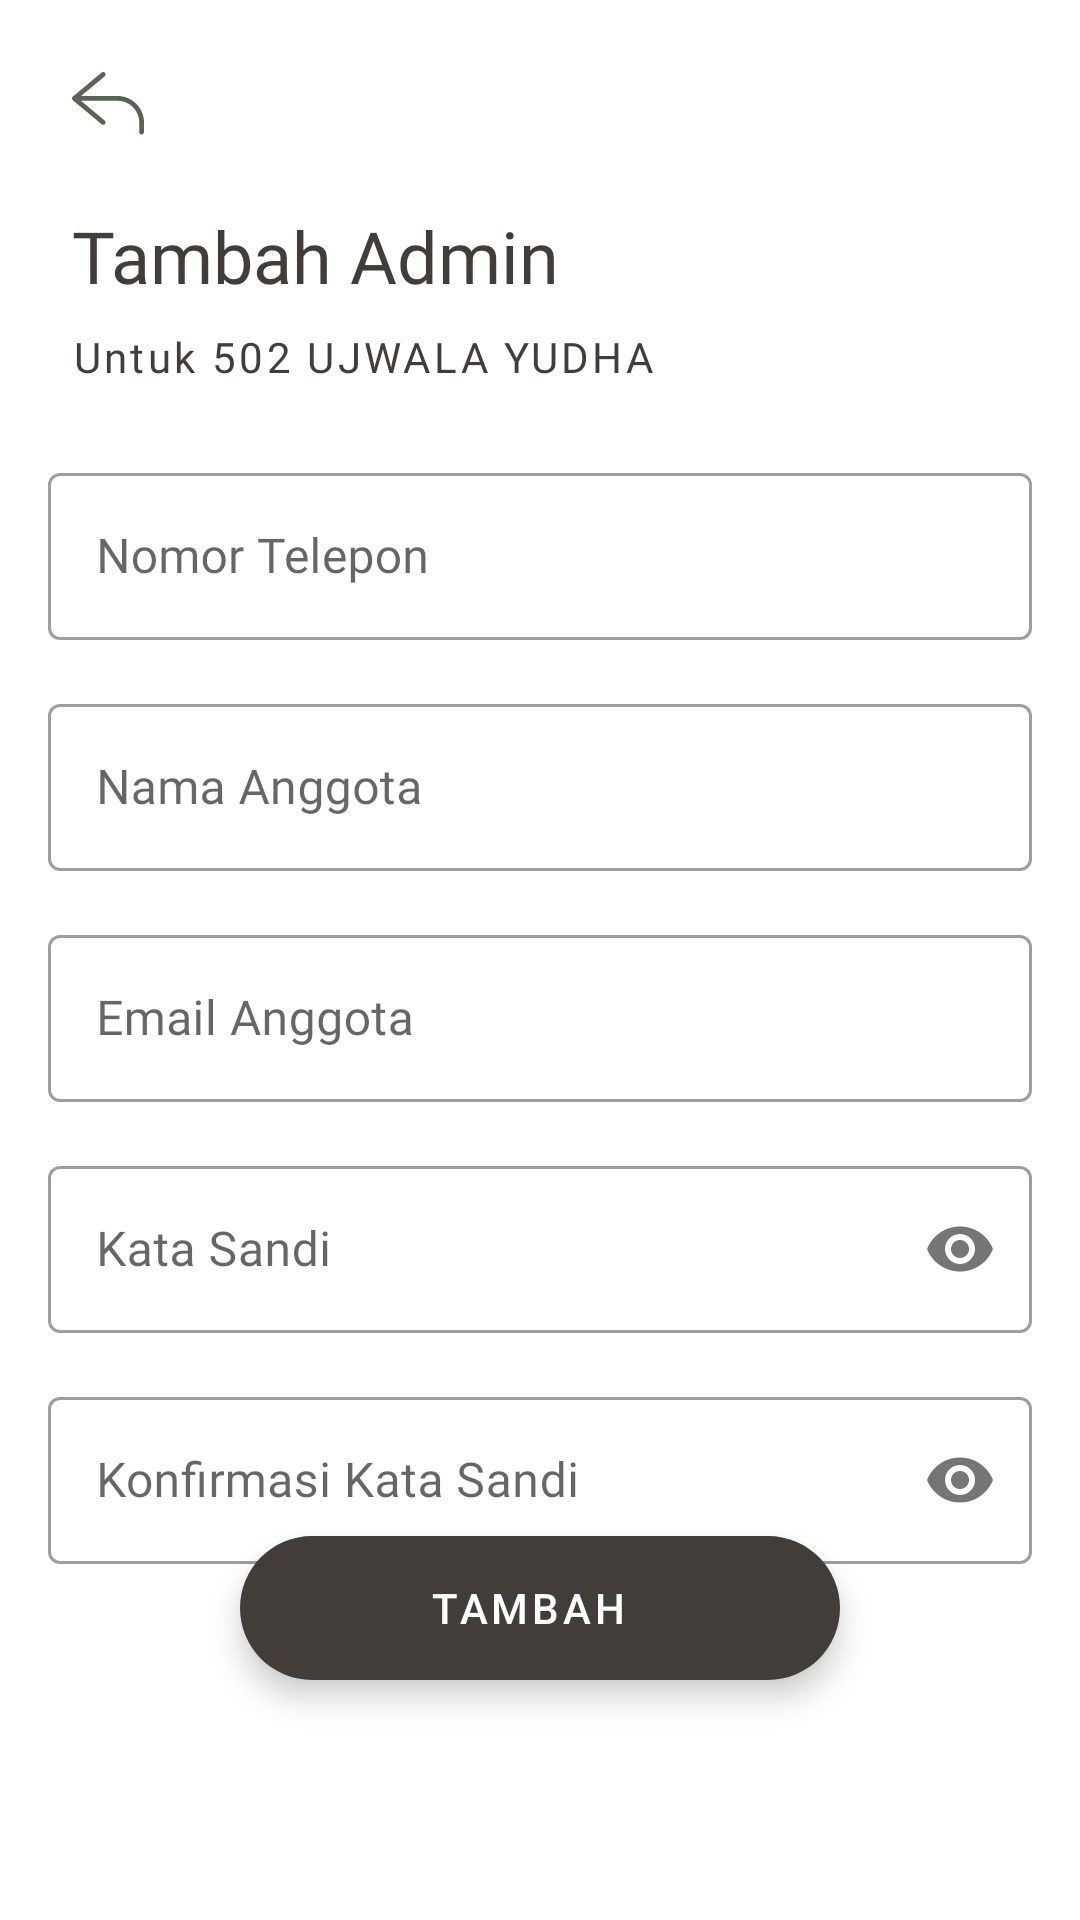

Where icons sit on this 1080×1920 app screen, as (x1, y1, x2, y2):
back: (72, 72, 144, 135)
